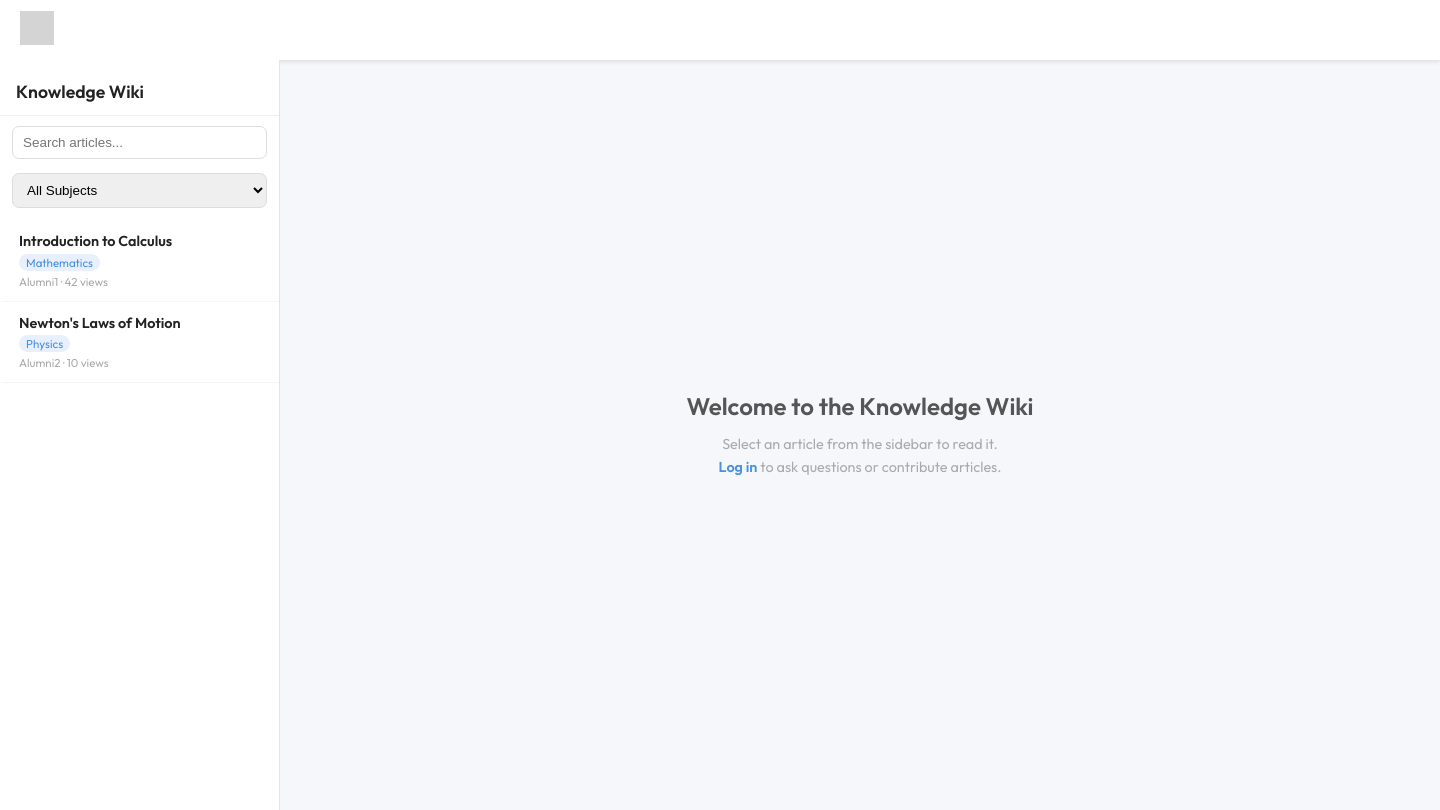
Wiki page › clicking an article opens it in the main panel
Click the text "Introduction to Calculus".
click(96, 241)  # box [19,232,172,250]
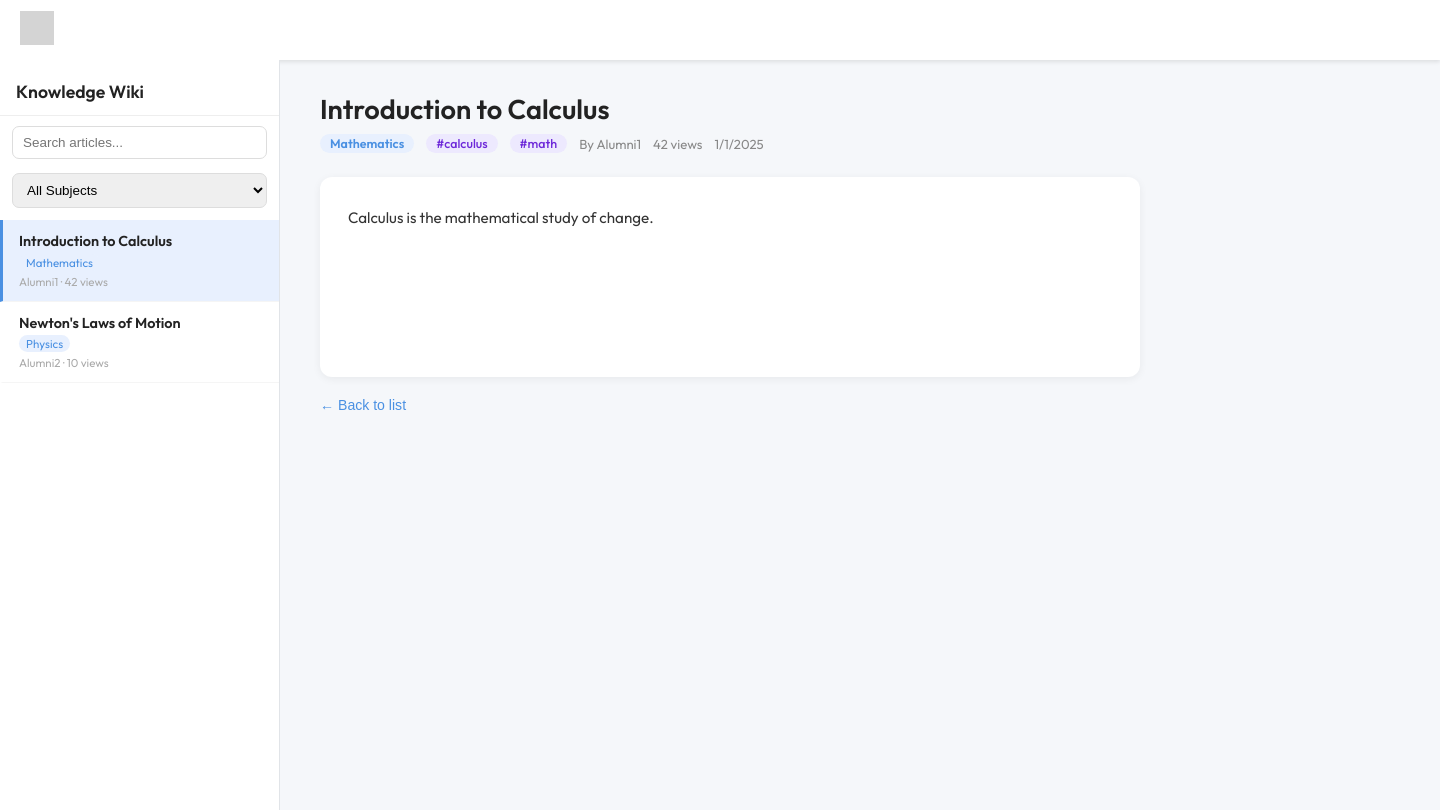
Check: the text "Calculus is the mathematical study of change." is shown, box [320,177,1140,377]
